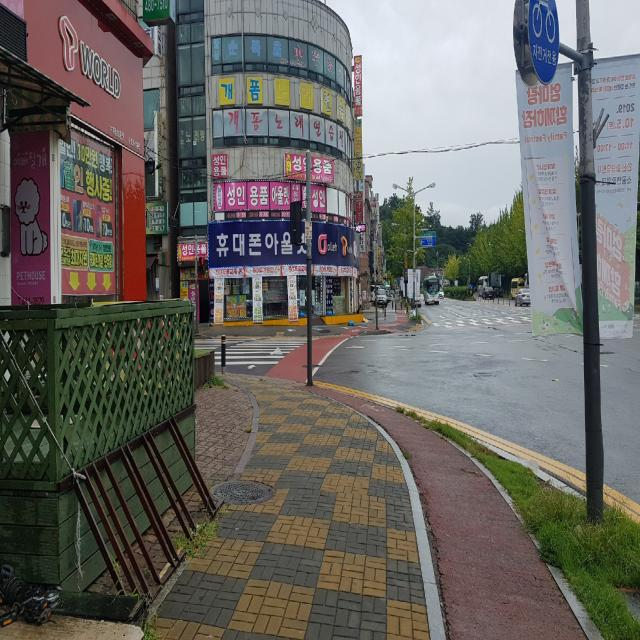횡단보도: (195, 337, 308, 370), (431, 316, 529, 328)
